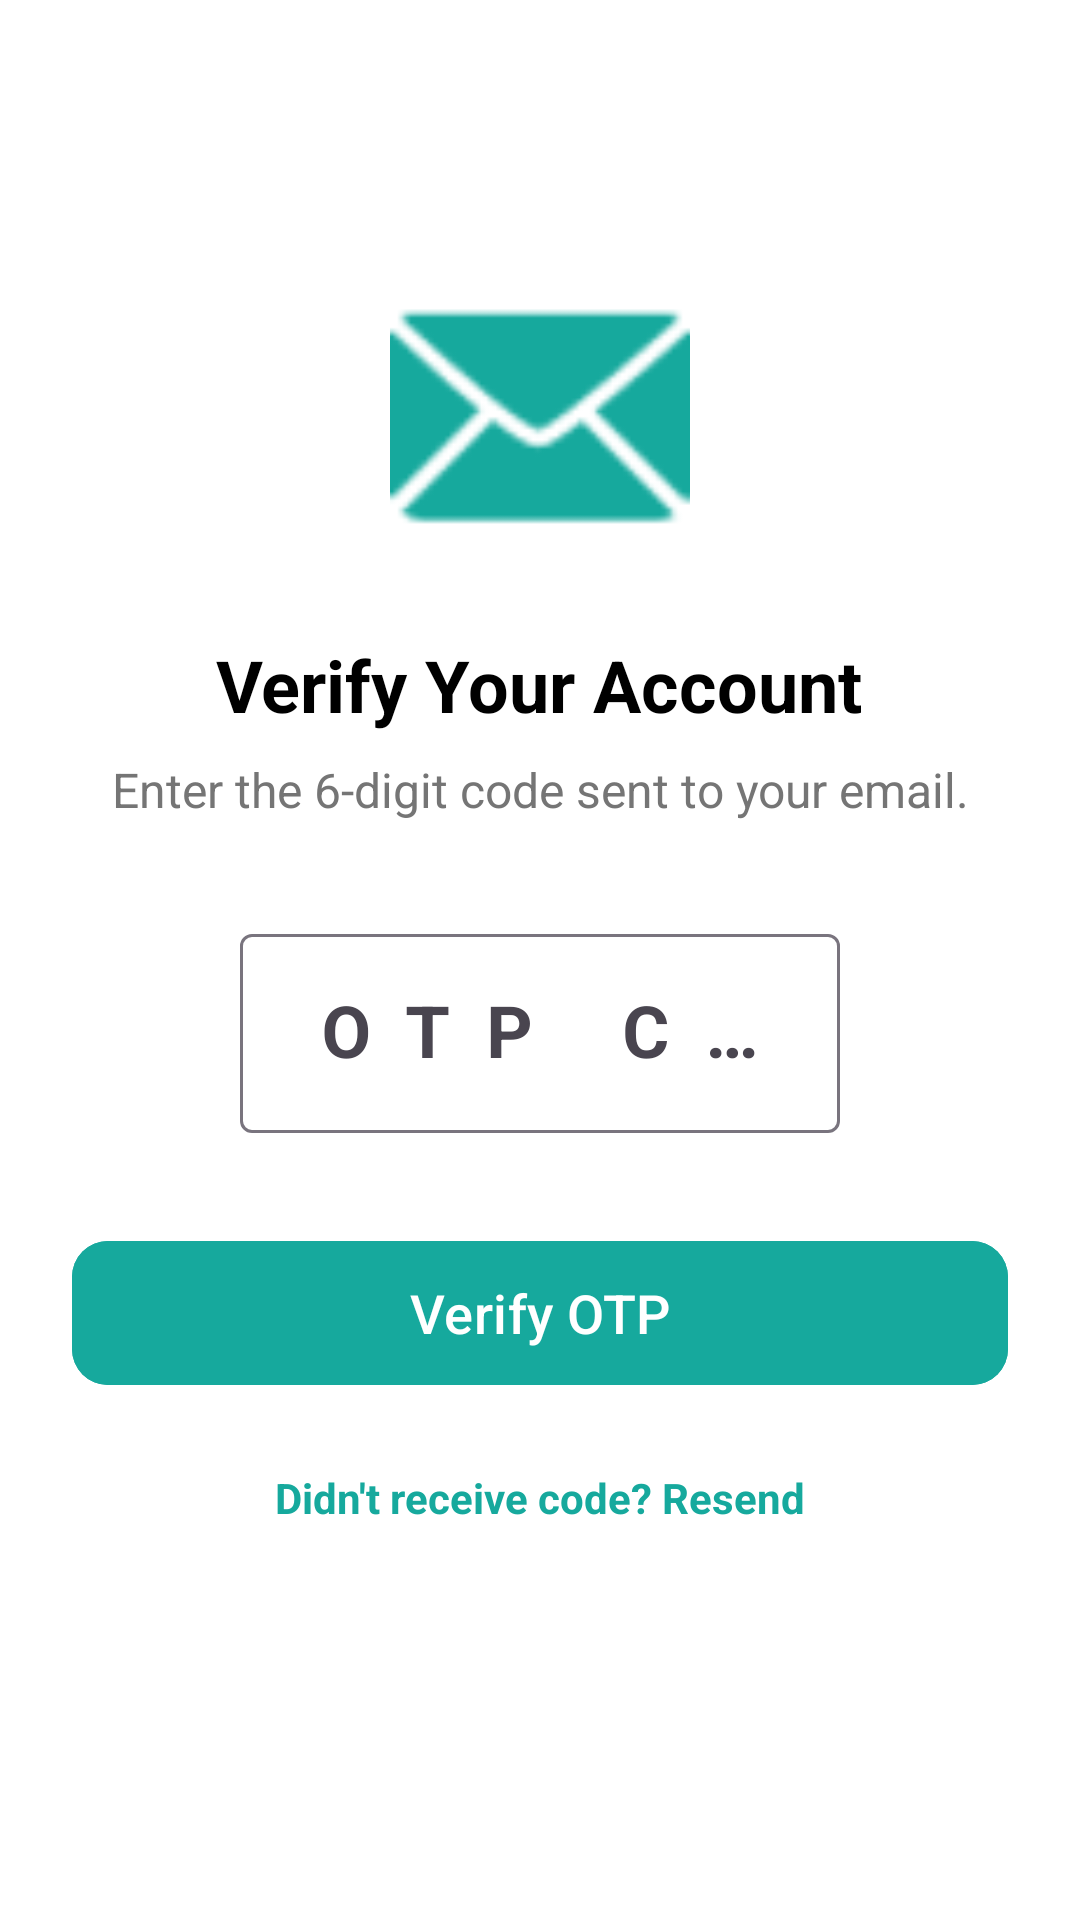

Where icons sit on this 1080×1920 app screen, as BBox(x1, y1, x2, y2):
email: BBox(390, 310, 690, 523)
